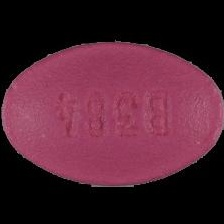0615-7575: (0, 0, 224, 224)
